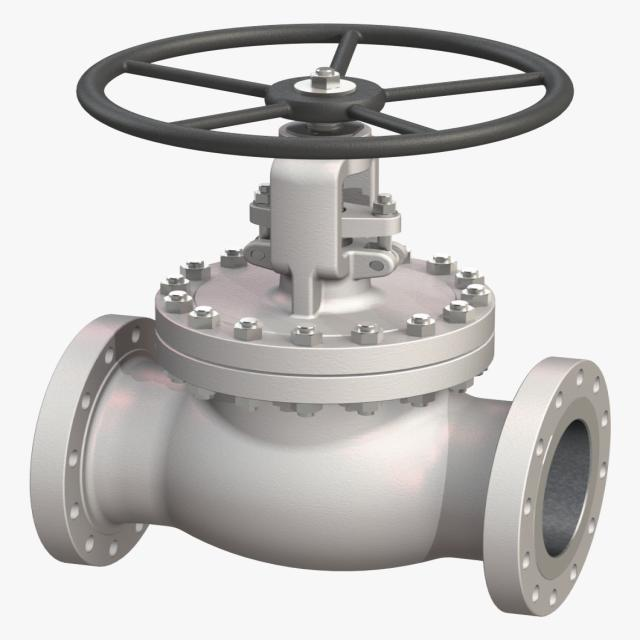Wheel Handle Valve Threaded: (70, 13, 583, 174)
